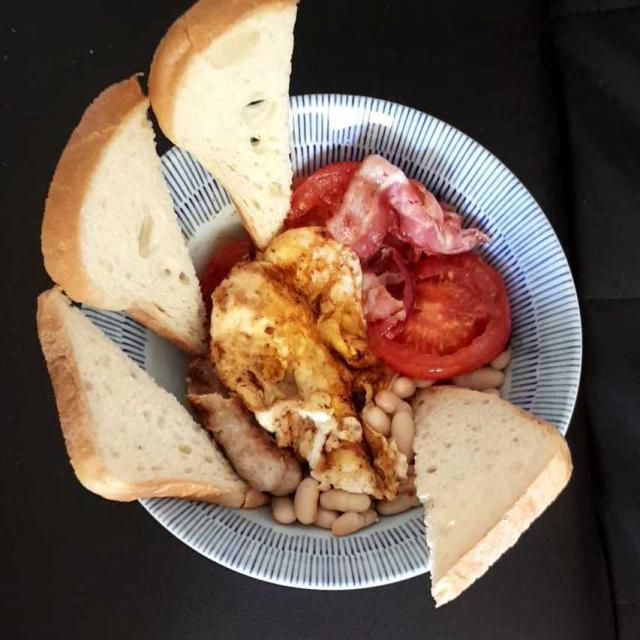beans-white: (250, 337, 516, 550)
bread-toast: (34, 9, 586, 620)
egg: (207, 230, 399, 508)
sausage: (186, 353, 321, 510)
tomato-raw: (281, 136, 534, 387)
